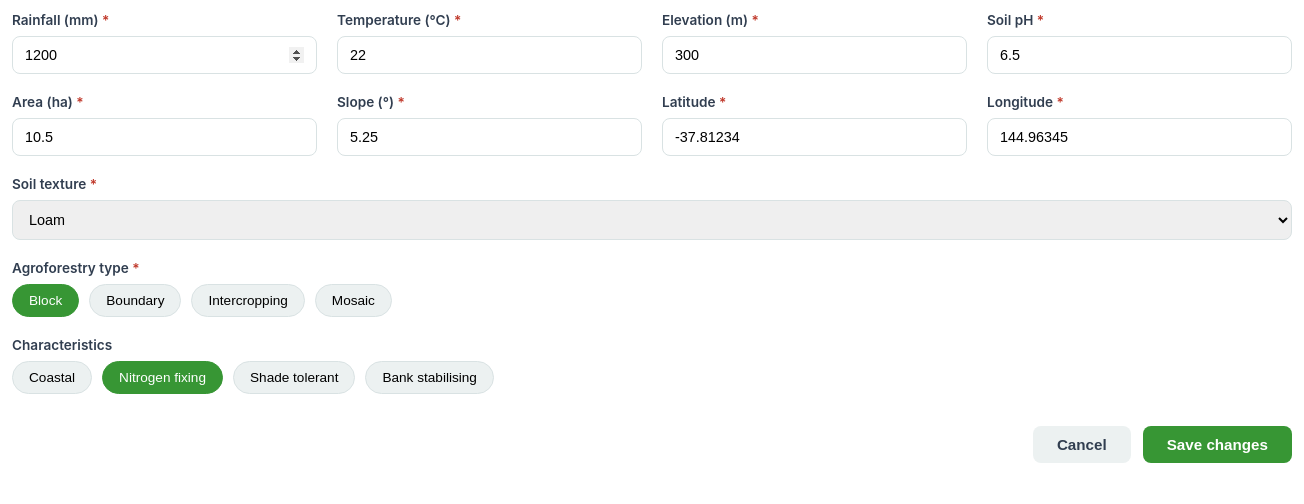
Test: FarmEditForm › shows validation errors when required field is missing
Clear the number field showing "1200": (164, 55) [12,36,317,74]
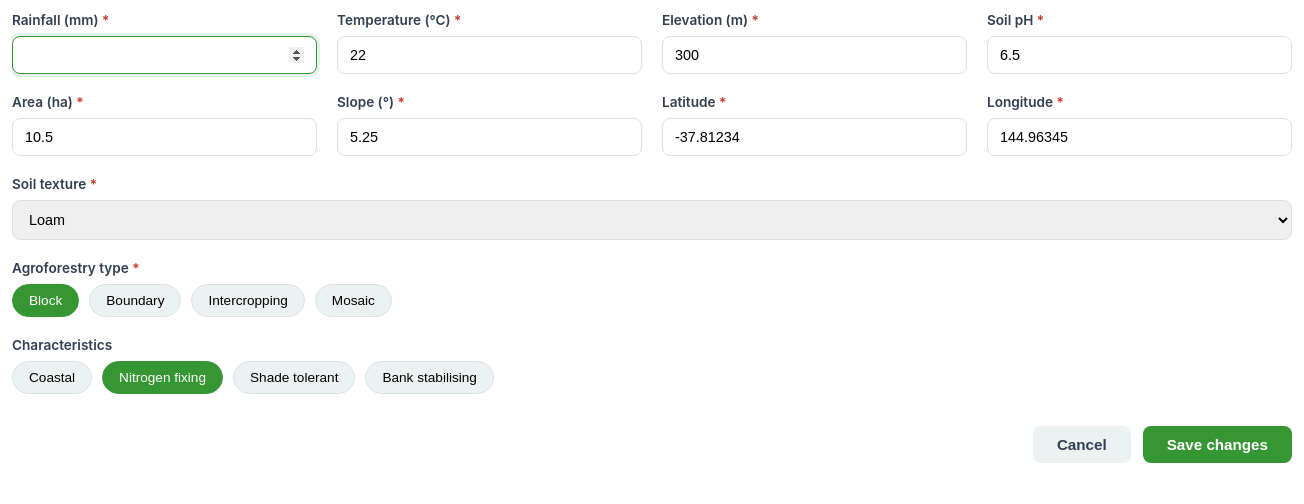
Click the button "Save changes": (1217, 444) [1143,426,1292,463]
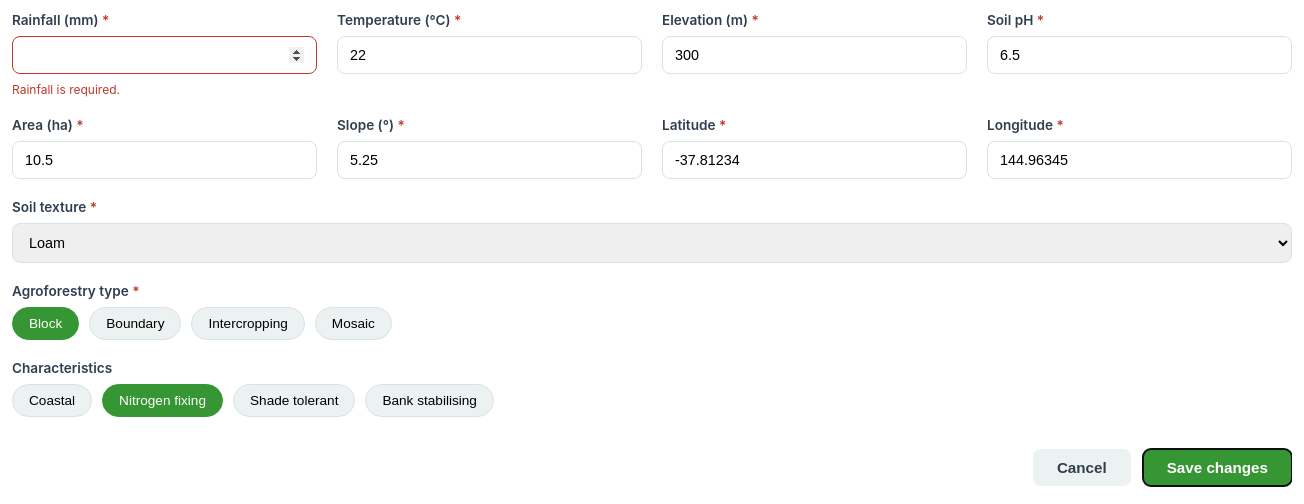
Check: the text "Rainfall is required." is shown, box [12,82,120,97]
